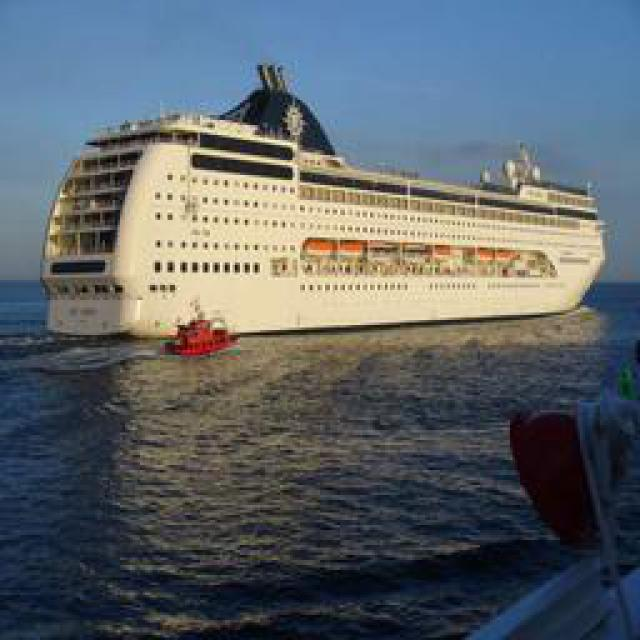Ship: (51, 72, 601, 345)
